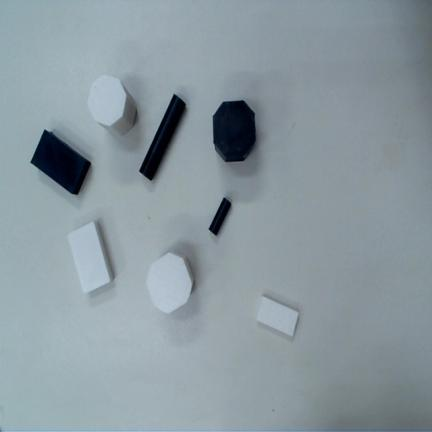Cilindro: (139, 94, 187, 181), (209, 197, 232, 235)
Paralelepipedo: (30, 129, 92, 196), (67, 221, 114, 294), (256, 295, 299, 337)
Prisma_hexagonal: (87, 75, 136, 137), (146, 252, 194, 313), (213, 100, 255, 163)
